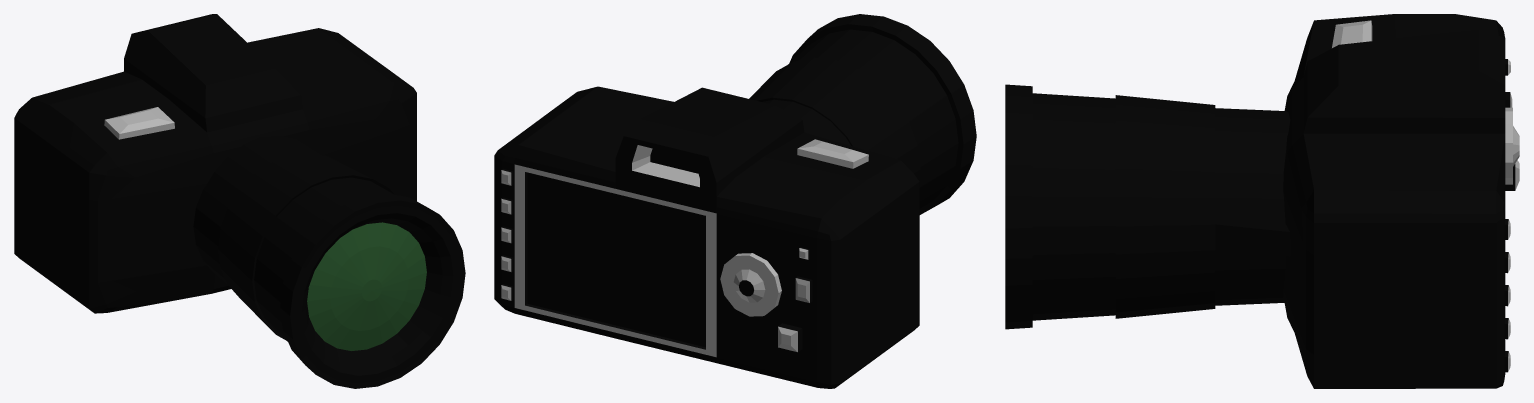
File: camera.fbx
3 views of the same model, side by side, from view 1: azimuth 30°, elevation 25°; view 2: azimuth 150°, elevation 25°; view 3: azimuth 270°, elevation 25° (orthographic). The views are drawn at different scales.
Visible parts, largest first — view 1: Cube; view 2: Cube; view 3: Cube.
Boxes of the visible parts, left/top/right/bottom form: Cube: left=14, top=14, right=465, bottom=388; Cube: left=494, top=14, right=976, bottom=388; Cube: left=1005, top=14, right=1519, bottom=388.
Size of the model in its own units: 144 by 92.73 by 161.
